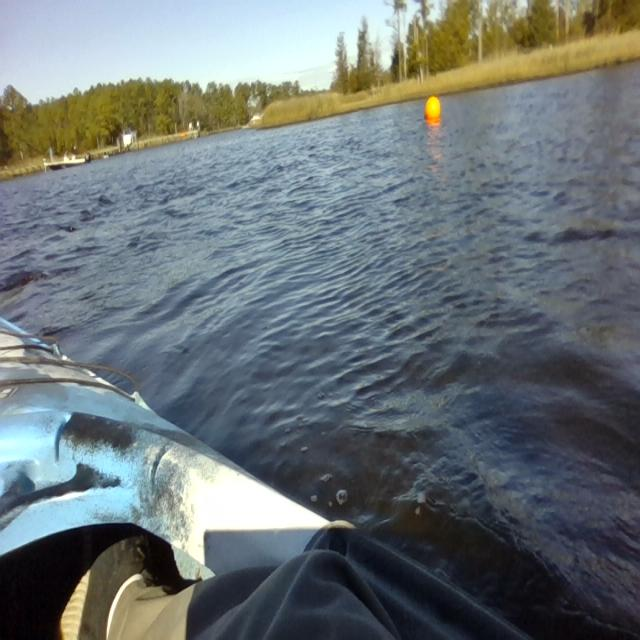Buoy: (422, 92, 442, 128)
